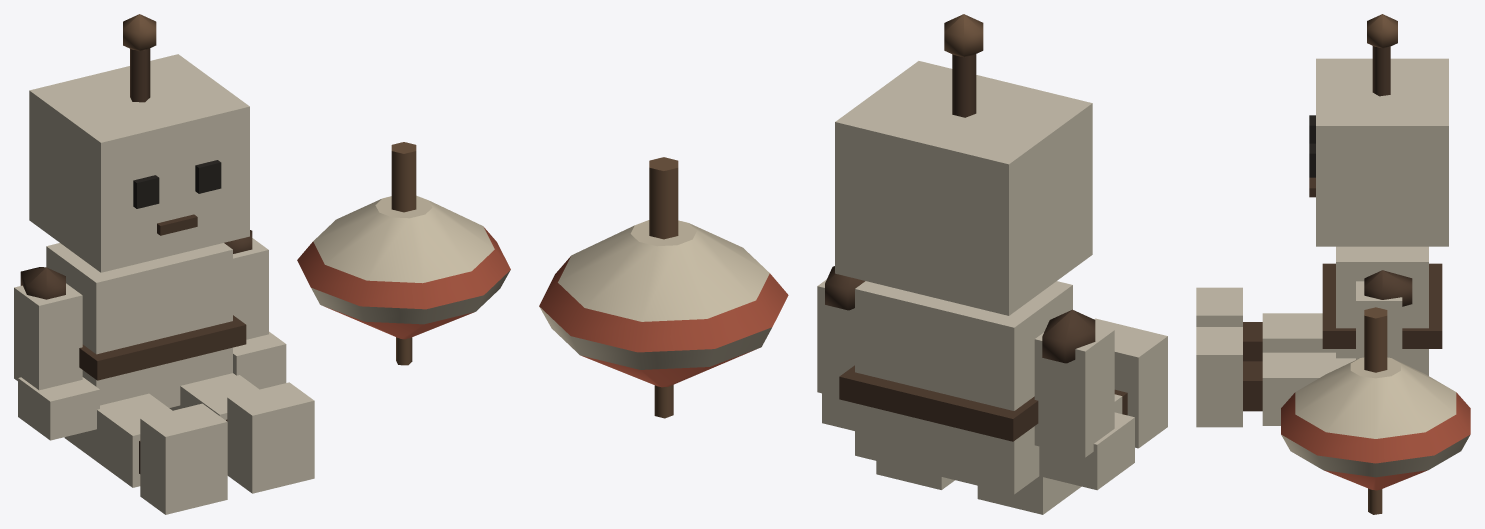
The model's file is toy_banki.glb.
3 views of the same model, side by side, from view 1: azimuth 30°, elevation 25°; view 2: azimuth 150°, elevation 25°; view 3: azimuth 270°, elevation 25° (orthographic). The views are drawn at different scales.
Visible parts, largest first — view 1: toy_banki; view 2: toy_banki; view 3: toy_banki.
Part boxes in pixels (x1,y1,x2,y2): toy_banki: (14, 14, 510, 514); toy_banki: (539, 14, 1167, 514); toy_banki: (1196, 14, 1470, 514).
Bounding box in the file's own units: 0.76 × 0.63 × 0.4127.
